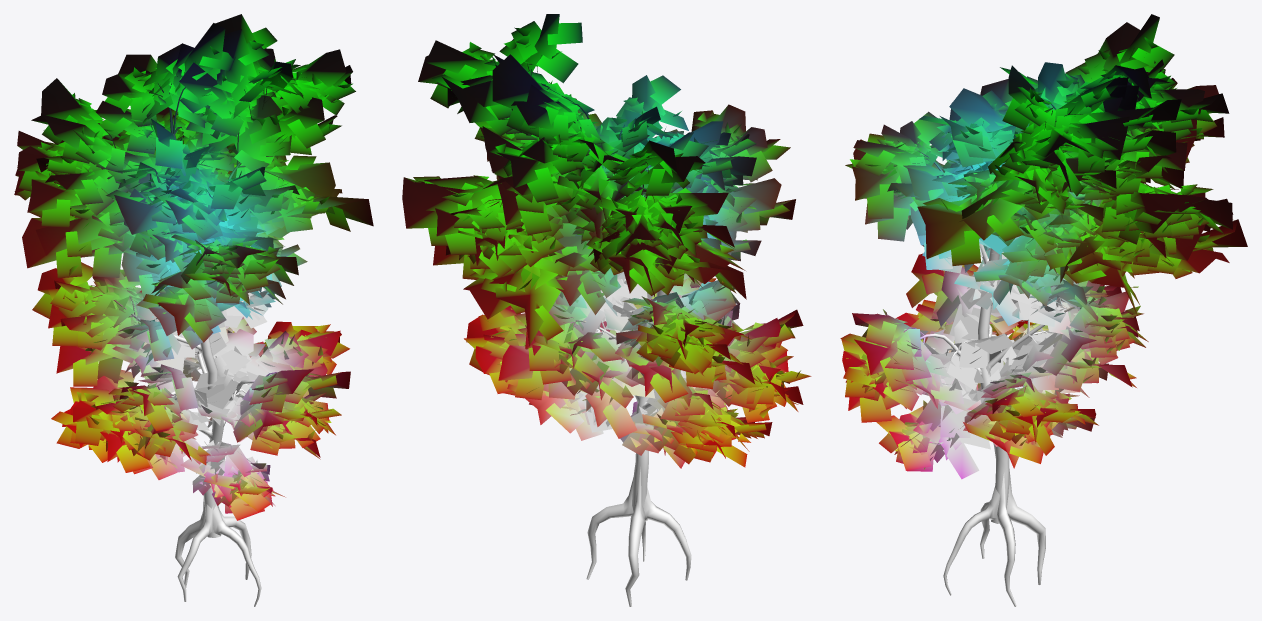
Rendered from arden_forest_hickory_03.fbx.
The picture shows the model from 3 angles, left to right: view 1: azimuth 30°, elevation 25°; view 2: azimuth 150°, elevation 25°; view 3: azimuth 270°, elevation 25°; orthographic projection. The views are drawn at different scales.
Parts seen in each view (by area): view 1: arden_forest_hickory_03; view 2: arden_forest_hickory_03; view 3: arden_forest_hickory_03.
Boxes of the visible parts, x1=… form: arden_forest_hickory_03: x1=14, y1=14, x2=373, y2=606; arden_forest_hickory_03: x1=402, y1=14, x2=811, y2=606; arden_forest_hickory_03: x1=840, y1=14, x2=1247, y2=606.
Size of the model in its own units: 16.32 by 16.91 by 25.66.
